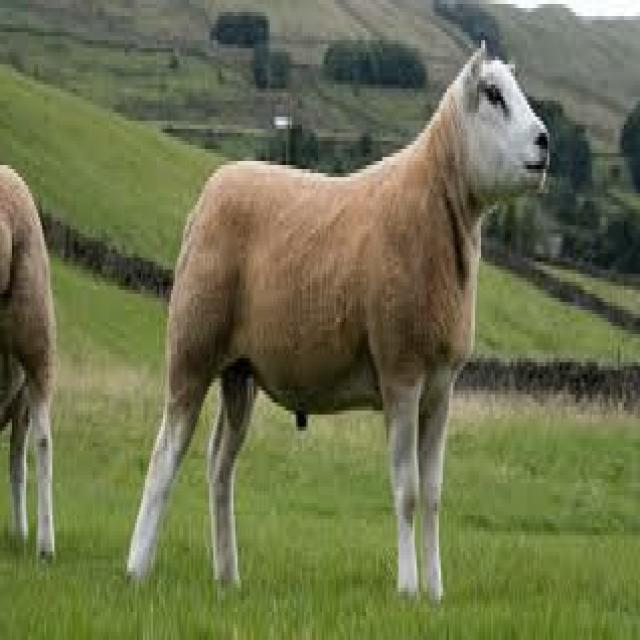sheep: (129, 44, 549, 596), (2, 165, 56, 551)
